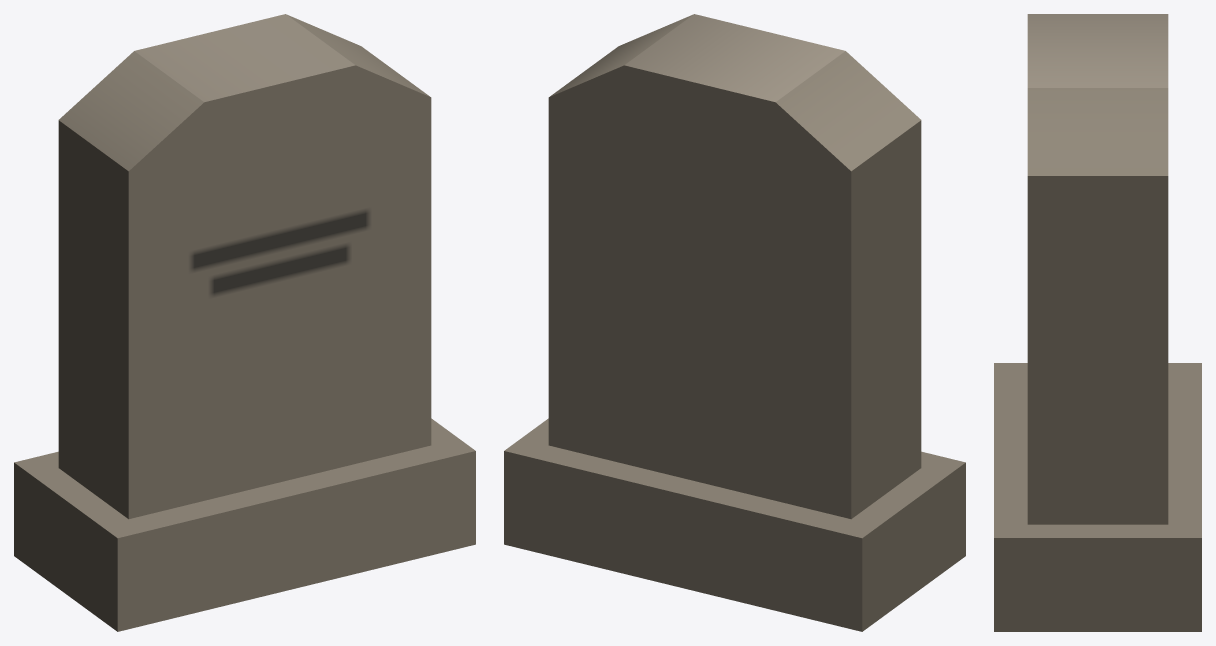
Rendered from SF_Prop_Grave_02.fbx.
The picture shows the model from 3 angles, left to right: view 1: azimuth 30°, elevation 25°; view 2: azimuth 150°, elevation 25°; view 3: azimuth 270°, elevation 25°; orthographic projection.
Visible parts, largest first — view 1: SF_Prop_Grave_02; view 2: SF_Prop_Grave_02; view 3: SF_Prop_Grave_02.
Part boxes in pixels (left/top/right/bottom): SF_Prop_Grave_02: left=14, top=14, right=475, bottom=631; SF_Prop_Grave_02: left=504, top=14, right=965, bottom=631; SF_Prop_Grave_02: left=994, top=14, right=1201, bottom=631.
Size of the model in its own units: 1.18 by 1.55 by 0.5929.
